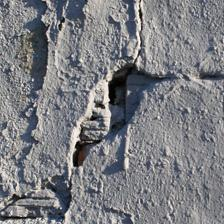Crack: (33, 0, 148, 57), (37, 59, 124, 93)
